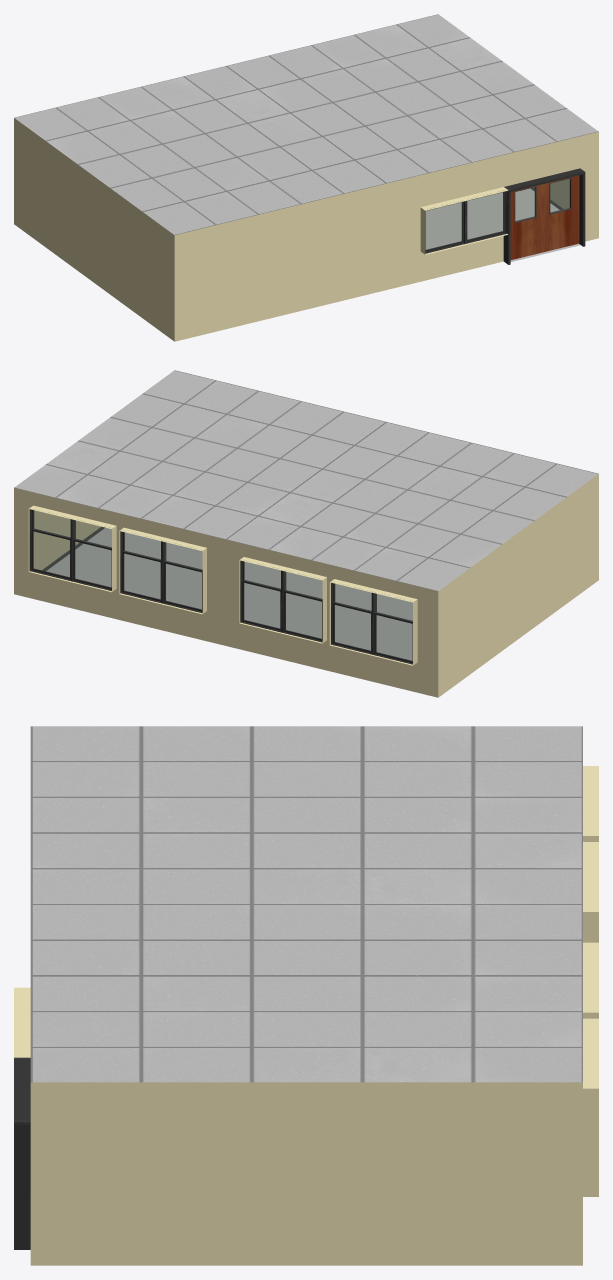
Rendered from Classroom_Shell.fbx.
3 renders of one model, top to bottom at view 1: azimuth 30°, elevation 25°; view 2: azimuth 150°, elevation 25°; view 3: azimuth 270°, elevation 25°, orthographic. The views are drawn at different scales.
Visible parts, largest first — view 1: Wall4, Glass, Floor1, Door_Right1, Door_Right, Door_Frame, Window; view 2: Wall4, Glass, Floor1, Window1, Window3, Window2, Window4; view 3: Wall4, Door_Frame.
Boxes of the visible parts, x1,y1,x2,y2 form: Wall4: [14, 14, 598, 341]; Glass: [426, 179, 569, 249]; Floor1: [425, 188, 580, 261]; Door_Right1: [543, 175, 579, 252]; Door_Right: [510, 184, 542, 259]; Door_Frame: [503, 168, 585, 264]; Window: [425, 191, 507, 253]; Wall4: [14, 370, 598, 697]; Glass: [33, 510, 412, 660]; Floor1: [46, 528, 412, 660]; Window1: [29, 509, 111, 590]; Window3: [240, 560, 322, 642]; Window2: [120, 531, 202, 613]; Window4: [331, 582, 412, 664]; Wall4: [14, 726, 598, 1265]; Door_Frame: [14, 1057, 30, 1249].
Bounding box in the file's own units: 1244 × 299 × 864.
